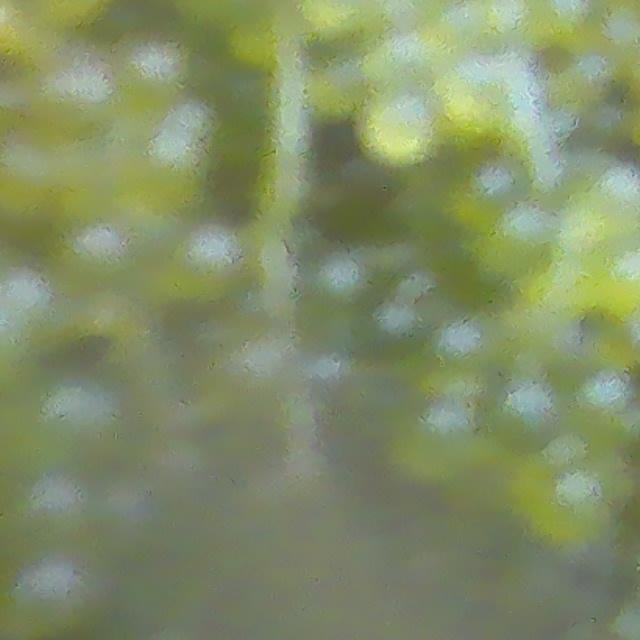SeaGrape: (358, 87, 444, 170), (480, 200, 558, 283), (492, 375, 566, 451), (311, 251, 373, 312)
